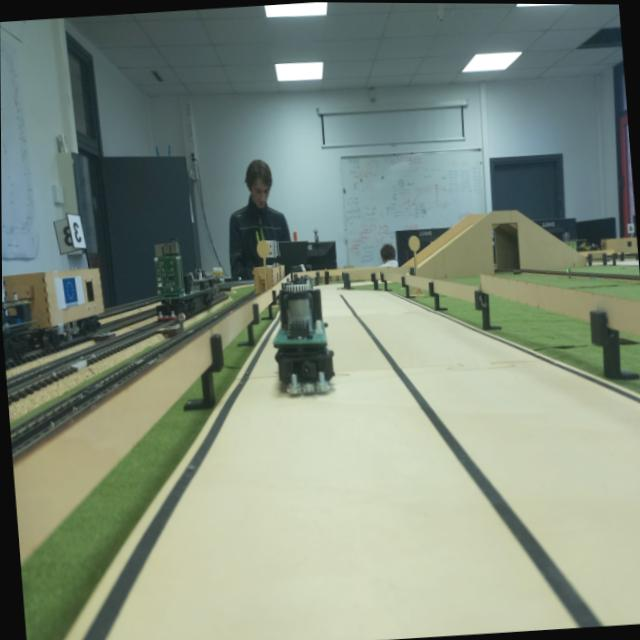obstacle_voiture: (260, 268, 341, 408)
